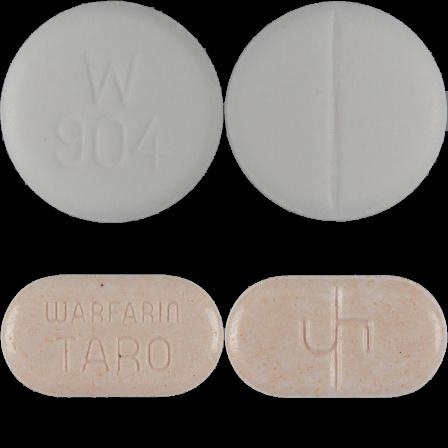63629-2541: (0, 0, 224, 224)
